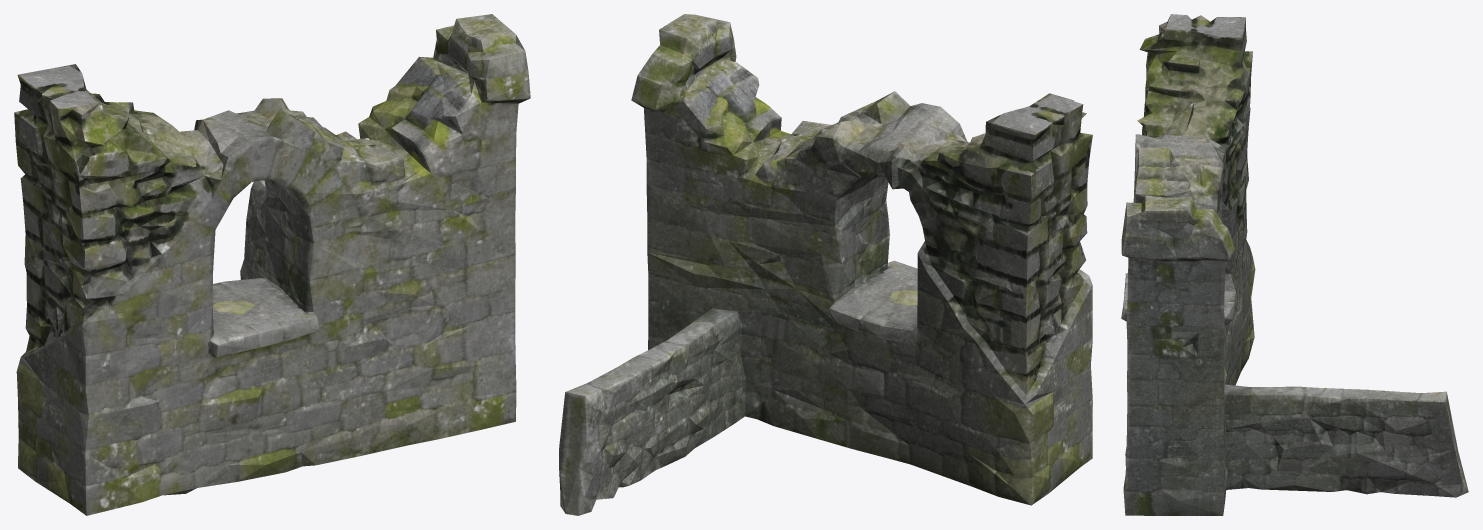
Rendered from ruin.fbx.
The picture shows the model from 3 angles, left to right: view 1: azimuth 30°, elevation 25°; view 2: azimuth 150°, elevation 25°; view 3: azimuth 270°, elevation 25°; orthographic projection. The views are drawn at different scales.
Parts seen in each view (by area): view 1: Mesh_0; view 2: Mesh_0; view 3: Mesh_0.
Boxes of the visible parts, x1,y1,x2,y2 form: Mesh_0: (14, 14, 530, 515); Mesh_0: (559, 14, 1092, 515); Mesh_0: (1121, 14, 1468, 515).
Bounding box in the file's own units: 5.87 × 5 × 4.78.
Materials: 1 (1 with a texture image).
